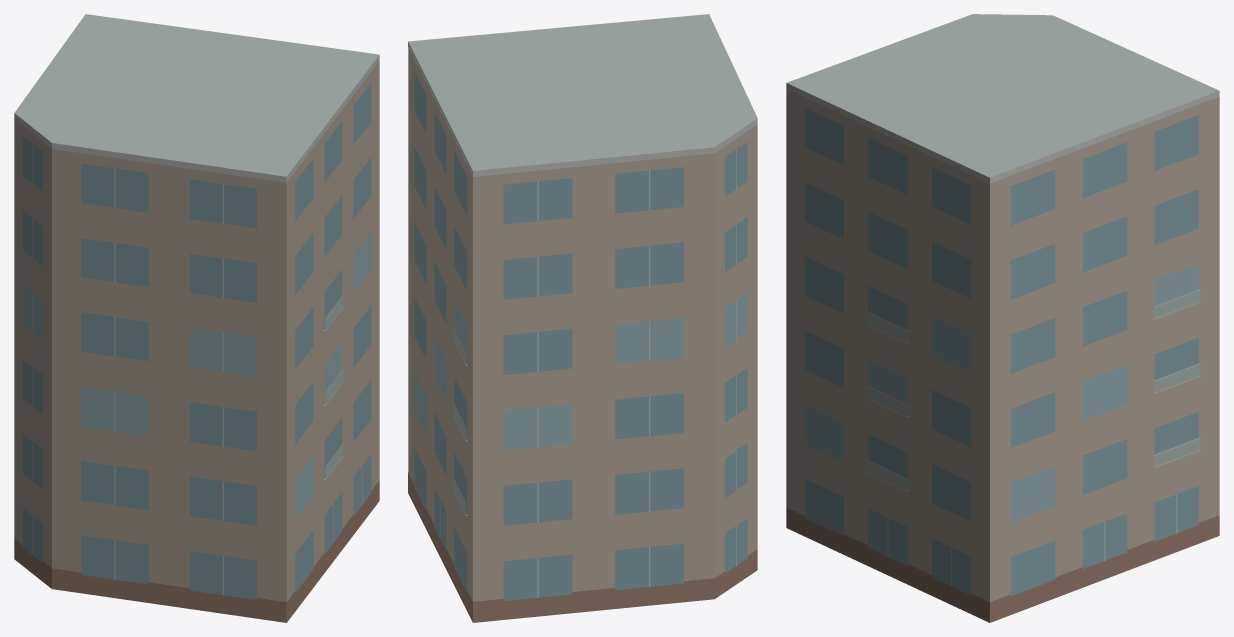
Rendered from survey-upis-32839584.glb.
3 views of the same model, side by side, from view 1: azimuth 30°, elevation 25°; view 2: azimuth 150°, elevation 25°; view 3: azimuth 270°, elevation 25° (orthographic).
Parts seen in each view (by area): view 1: survey-upis-32839584.tmp; view 2: survey-upis-32839584.tmp; view 3: survey-upis-32839584.tmp.
Part boxes in pixels (<box>): survey-upis-32839584.tmp: <box>14,14,379,622</box>; survey-upis-32839584.tmp: <box>408,14,757,622</box>; survey-upis-32839584.tmp: <box>786,14,1219,622</box>.
Size of the model in its own units: 14.45 by 18.3 by 16.15.
